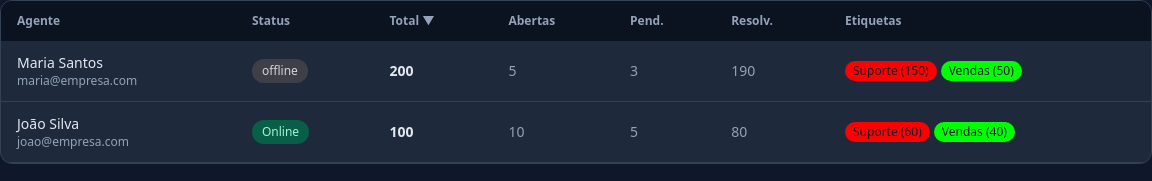
Scenario: DataTable › changes sort indicator when clicking name header
This screenshot has width=1152, height=181.
Expected: the text "Total ▼" is shown, [389,12,435,29]
// Click name header
Click the text "Agente".
click(39, 20)  # box [17,12,60,29]
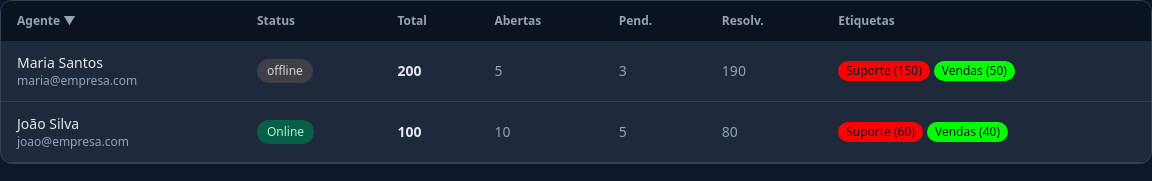
Expected: the text "Agente ▼" is shown, [17,12,76,29]
